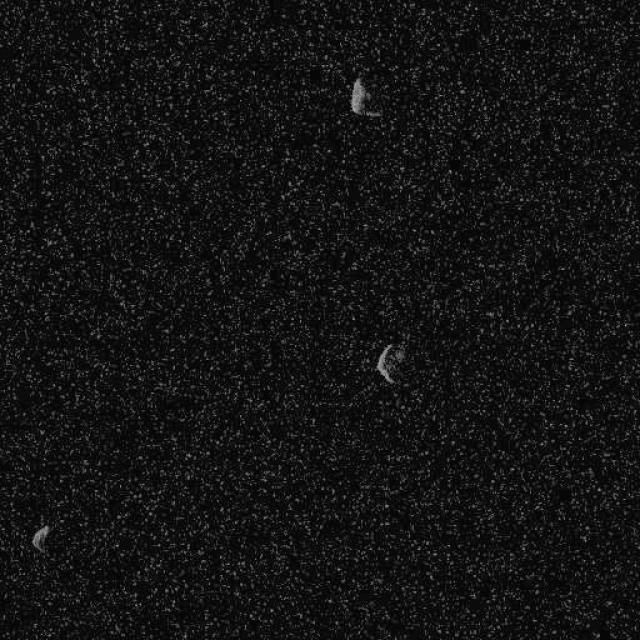D2: (375, 342, 406, 386), (348, 75, 368, 115), (30, 524, 50, 552)
